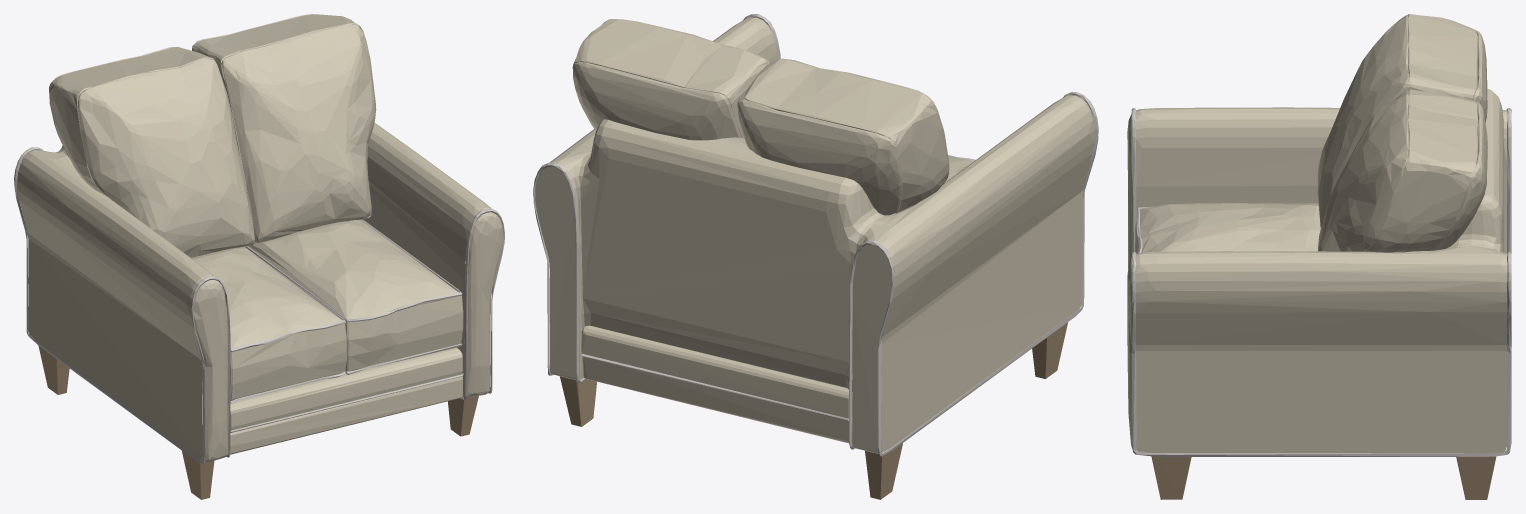
The model's file is sh-bs0-sofa2.glb.
3 views of the same model, side by side, from view 1: azimuth 30°, elevation 25°; view 2: azimuth 150°, elevation 25°; view 3: azimuth 270°, elevation 25° (orthographic). The views are drawn at different scales.
Parts seen in each view (by area): view 1: Sofa; view 2: Sofa; view 3: Sofa.
Boxes of the visible parts, x1,y1,x2,y2 form: Sofa: [14, 14, 504, 499]; Sofa: [533, 14, 1098, 499]; Sofa: [1127, 14, 1511, 499].
Size of the model in its own units: 1 by 0.9999 by 0.9999.
